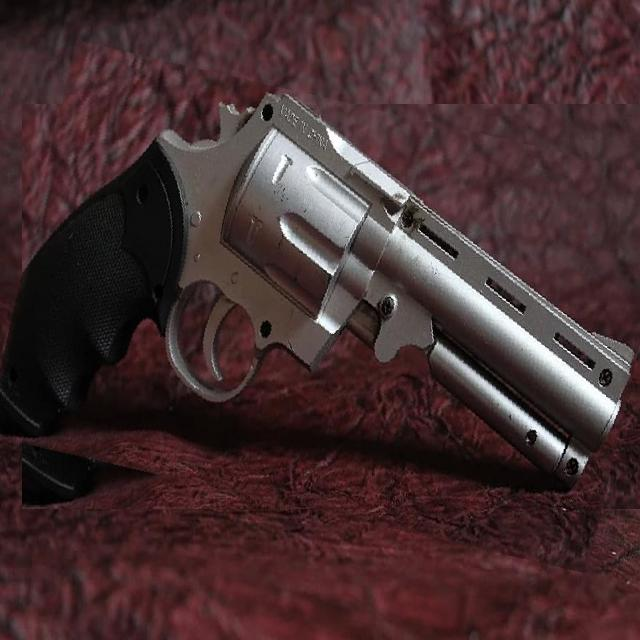gun: (3, 72, 640, 541)
